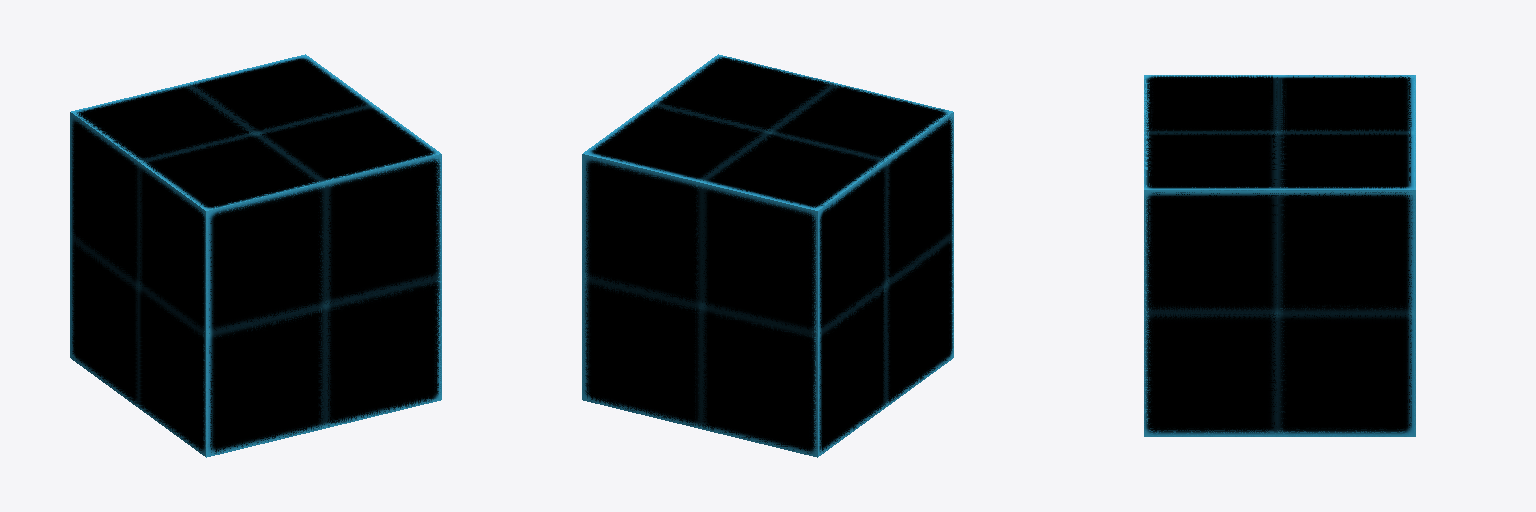
3 views of the same model, side by side, from view 1: azimuth 30°, elevation 25°; view 2: azimuth 150°, elevation 25°; view 3: azimuth 270°, elevation 25° (orthographic).
Parts seen in each view (by area): view 1: Cube_Cube.036; view 2: Cube_Cube.036; view 3: Cube_Cube.036.
Part boxes in pixels (x1,y1,x2,y2): Cube_Cube.036: (70,54,441,457); Cube_Cube.036: (582,54,953,457); Cube_Cube.036: (1144,75,1415,436).
Bounding box in the file's own units: 0.9531 × 0.9531 × 0.9531.
Materials: 1 (1 with a texture image).